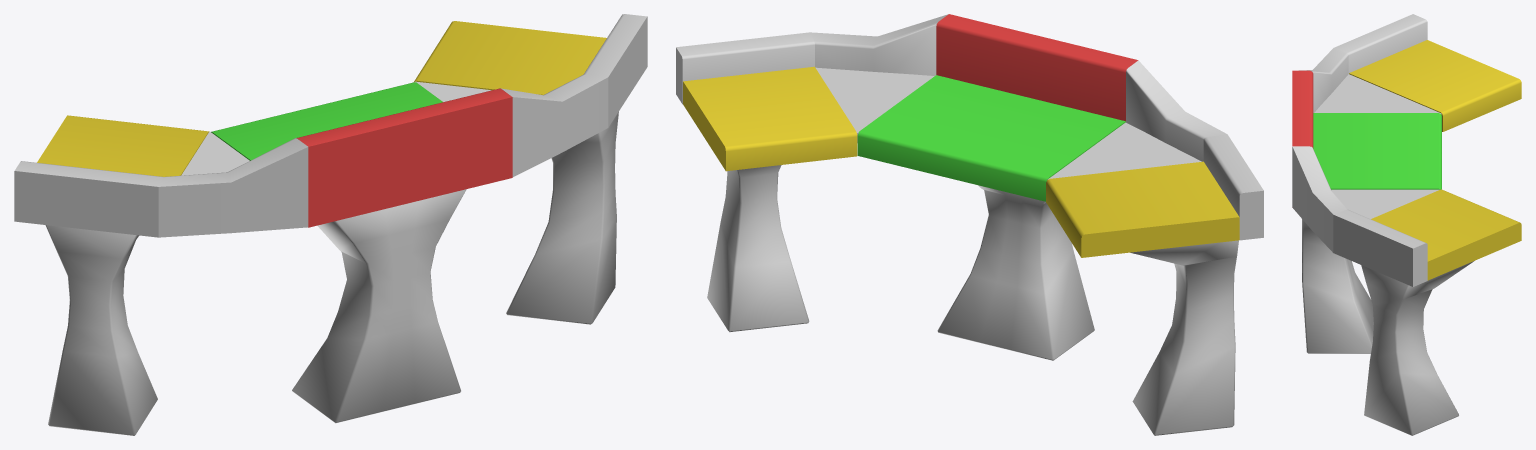
Rendered from Primary Panel.fbx.
The picture shows the model from 3 angles, left to right: view 1: azimuth 30°, elevation 25°; view 2: azimuth 150°, elevation 25°; view 3: azimuth 270°, elevation 25°; orthographic projection. The views are drawn at different scales.
Parts seen in each view (by area): view 1: Plane Base Center, Bottom Center.001, Plane Base Side, Plane Base Side.001, Middle Side.001, Side Panel.001, Back Side, Side Panel, Middle Side.002, Bottom Center, Back Side.001, Middle Connector (+1 smaller); view 2: Bottom Center, Plane Base Center, Plane Base Side, Side Panel, Side Panel.001, Bottom Center.001, Plane Base Side.001, Middle Side.002, Back Side.001, Middle Side.001, Middle Connector.001, Middle Connector (+1 smaller); view 3: Plane Base Side.001, Bottom Center, Side Panel, Plane Base Center, Side Panel.001, Back Side.001, Middle Side.002, Back Side, Middle Connector, Middle Connector.001, Bottom Center.001, Middle Side.001.
Part boxes in pixels (x1,y1,x2,y2): Plane Base Center: [292, 189, 466, 423]; Bottom Center.001: [296, 88, 512, 227]; Plane Base Side: [45, 225, 157, 435]; Plane Base Side.001: [506, 112, 618, 324]; Middle Side.001: [158, 138, 308, 237]; Side Panel.001: [414, 21, 606, 94]; Back Side: [14, 161, 163, 237]; Side Panel: [37, 115, 209, 176]; Middle Side.002: [499, 74, 608, 176]; Bottom Center: [211, 82, 442, 160]; Back Side.001: [583, 14, 647, 127]; Middle Connector: [181, 131, 249, 175]; Bottom Center: [857, 75, 1125, 201]; Plane Base Center: [937, 185, 1094, 360]; Plane Base Side: [1130, 240, 1238, 435]; Side Panel: [1046, 161, 1239, 257]; Side Panel.001: [683, 66, 857, 171]; Bottom Center.001: [936, 14, 1138, 121]; Plane Base Side.001: [707, 165, 809, 332]; Middle Side.002: [810, 14, 948, 75]; Back Side.001: [676, 32, 814, 104]; Middle Side.001: [1126, 60, 1226, 161]; Middle Connector.001: [815, 67, 934, 142]; Middle Connector: [1047, 122, 1201, 179]; Plane Base Side.001: [1361, 261, 1473, 435]; Bottom Center: [1313, 113, 1441, 189]; Side Panel: [1349, 40, 1521, 131]; Plane Base Center: [1302, 219, 1373, 353]; Side Panel.001: [1371, 189, 1521, 280]; Back Side.001: [1333, 209, 1427, 286]; Middle Side.002: [1292, 146, 1347, 252]; Back Side: [1334, 14, 1427, 73]; Middle Connector: [1314, 74, 1441, 114]; Middle Connector.001: [1331, 189, 1439, 219]; Bottom Center.001: [1292, 70, 1313, 148]; Middle Side.001: [1299, 48, 1348, 112].
Size of the model in its own units: 184 by 81.33 by 75.86.
